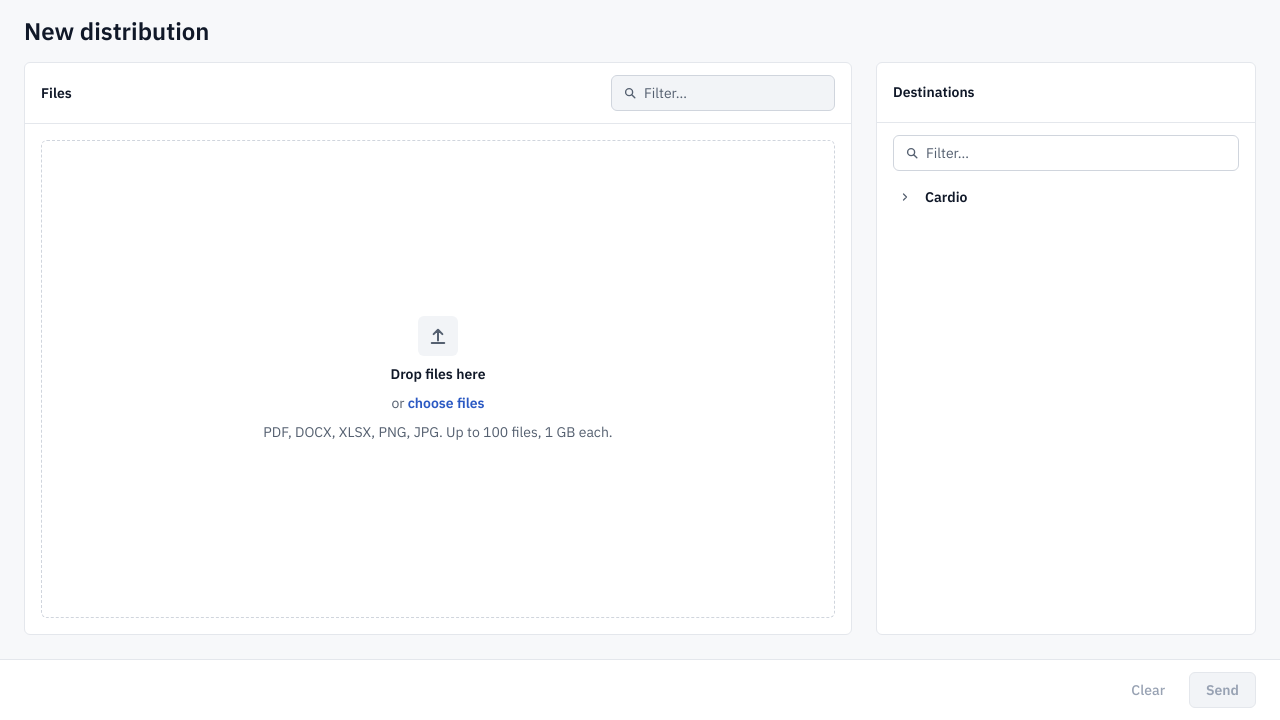
Distribute › allows a tick before there is a file, and sends the files added next to that folder (D-F1-4)
What coordinates should you click on to do the following:
click the button named "Expand Cardio"
I would click on:
 (905, 197)
Its box is 893,185 -> 917,209.
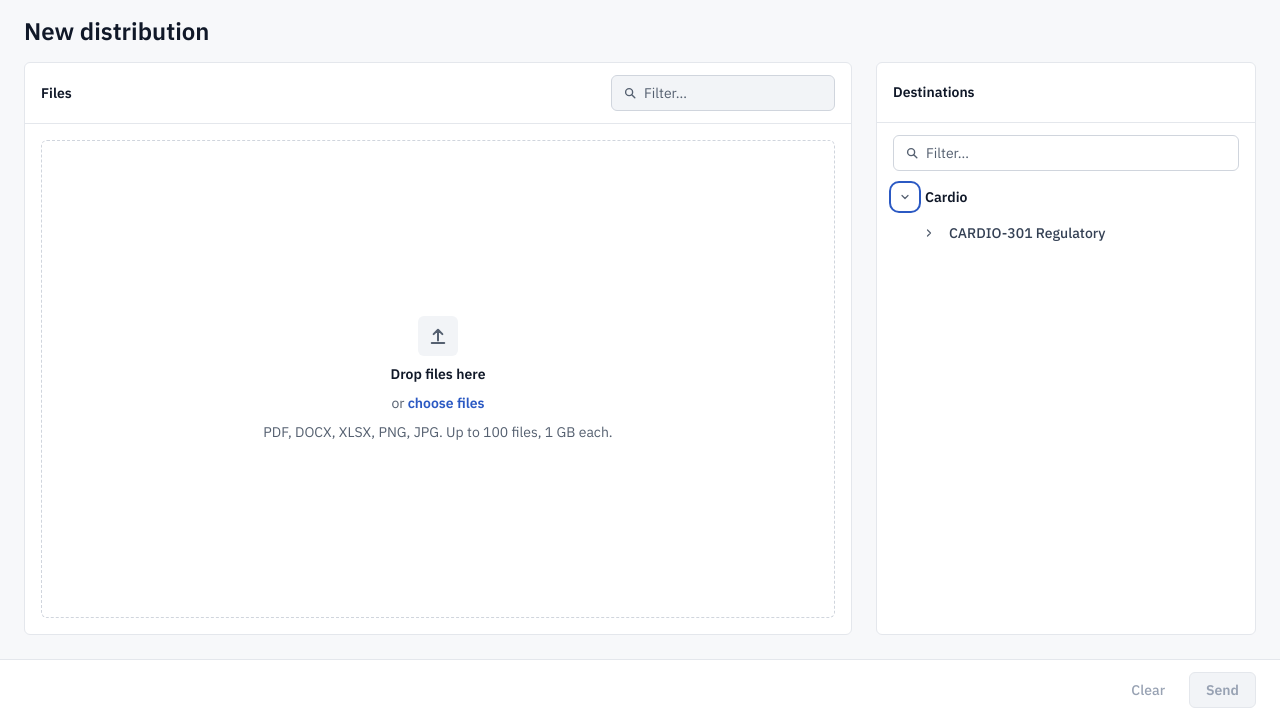
What coordinates should you click on to do the following:
click the button named "Expand CARDIO-301 Regulatory"
I would click on:
 (929, 233)
Its box is 917,221 -> 941,245.
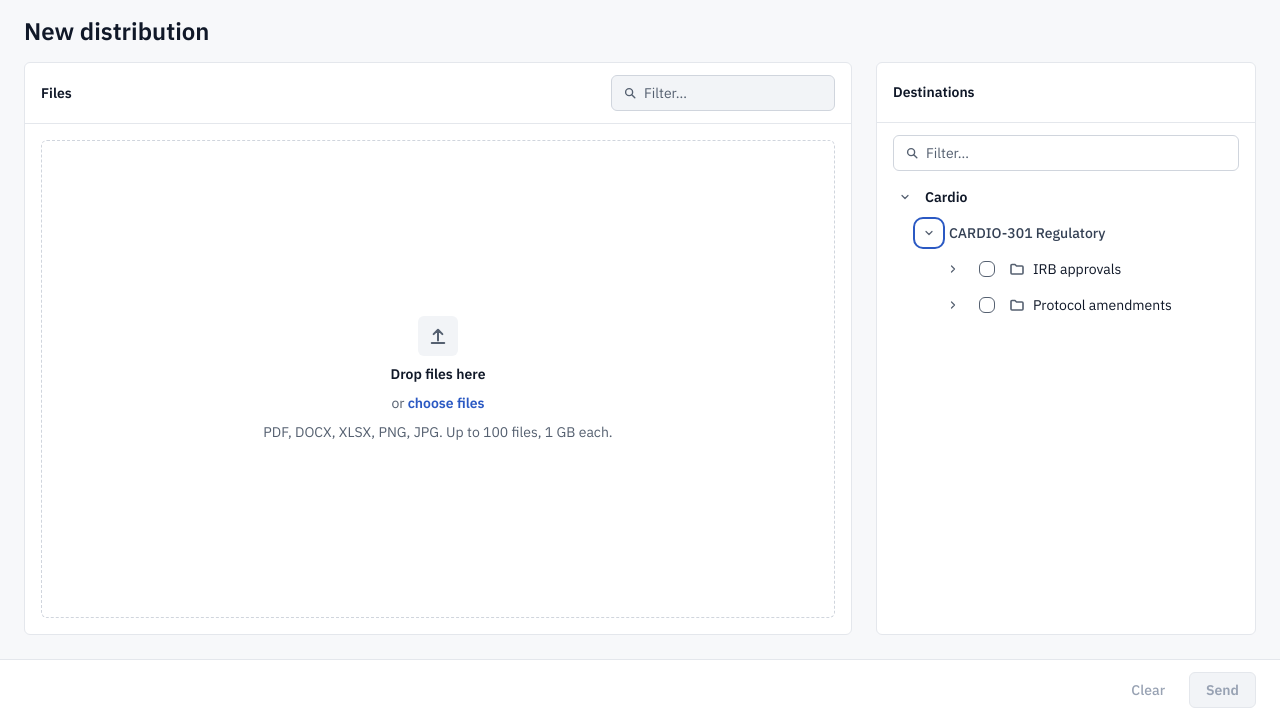
Check: the text "Drop files here" is shown, box 390,364 -> 485,384
Check: the checkbox named "to Cardio / CARDIO-301 Regulatory / IRB approvals" is enabled
What coordinates should you click on to do the following:
click the checkbox named "to Cardio / CARDIO-301 Regulatory / IRB approvals"
I would click on:
 (987, 269)
Its box is 973,255 -> 1001,283.
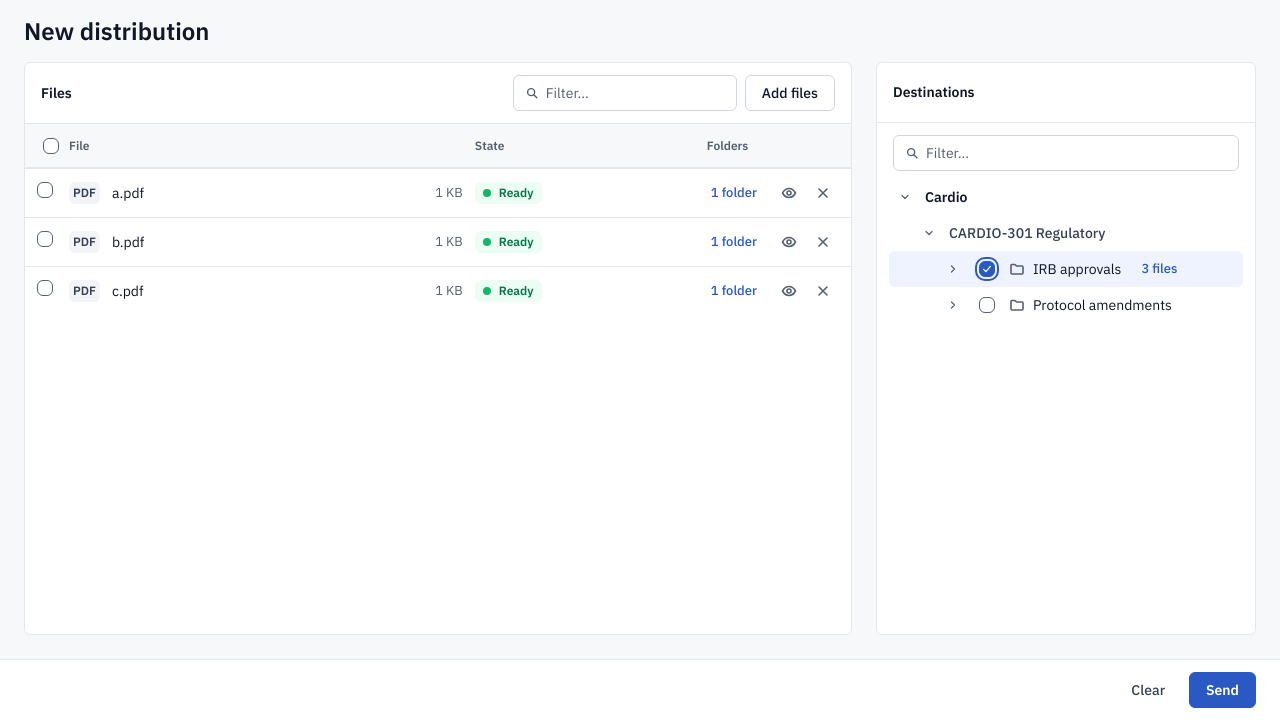
Check: the button "Clear" is enabled, box 1123,672 -> 1173,708
Check: the button "Send" is enabled, box 1189,672 -> 1256,708
